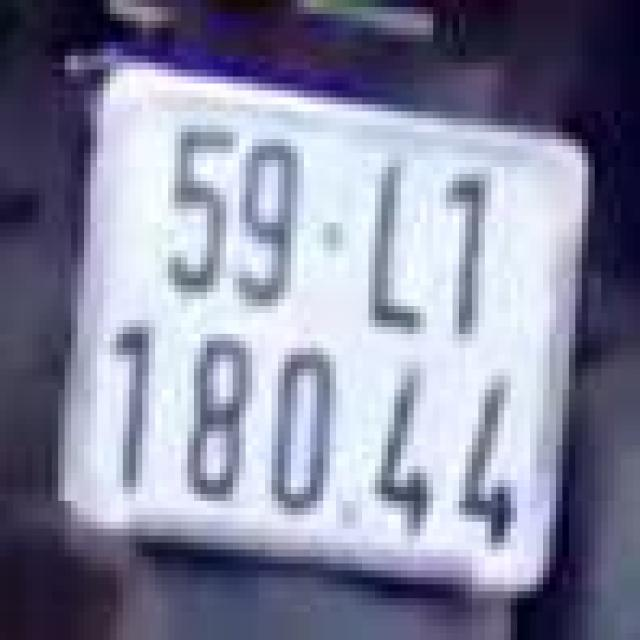0: (262, 338, 339, 526)
1: (443, 167, 501, 348), (110, 320, 155, 494)
4: (368, 354, 439, 550), (456, 368, 527, 556)
5: (158, 115, 242, 302)
8: (178, 324, 255, 518)
9: (233, 139, 304, 306)
L: (352, 143, 430, 344)
